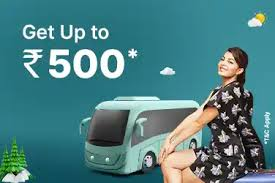bus: (78, 94, 205, 177)
